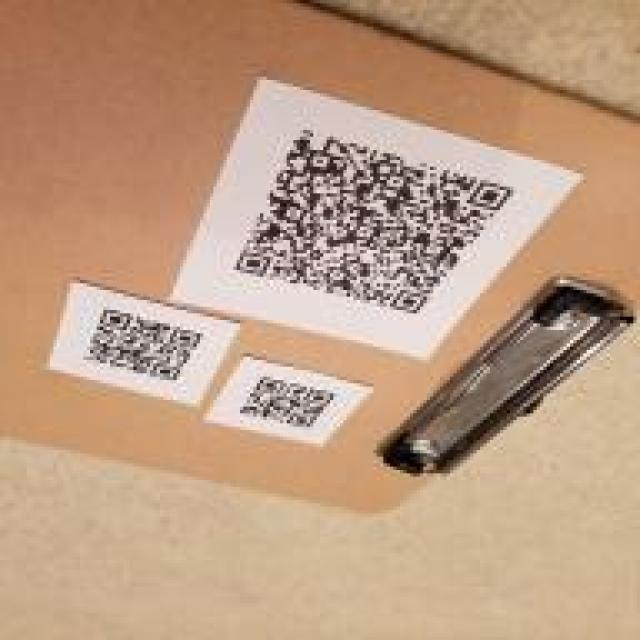qr_code: (234, 128, 512, 314), (83, 308, 202, 382), (238, 374, 336, 429)
